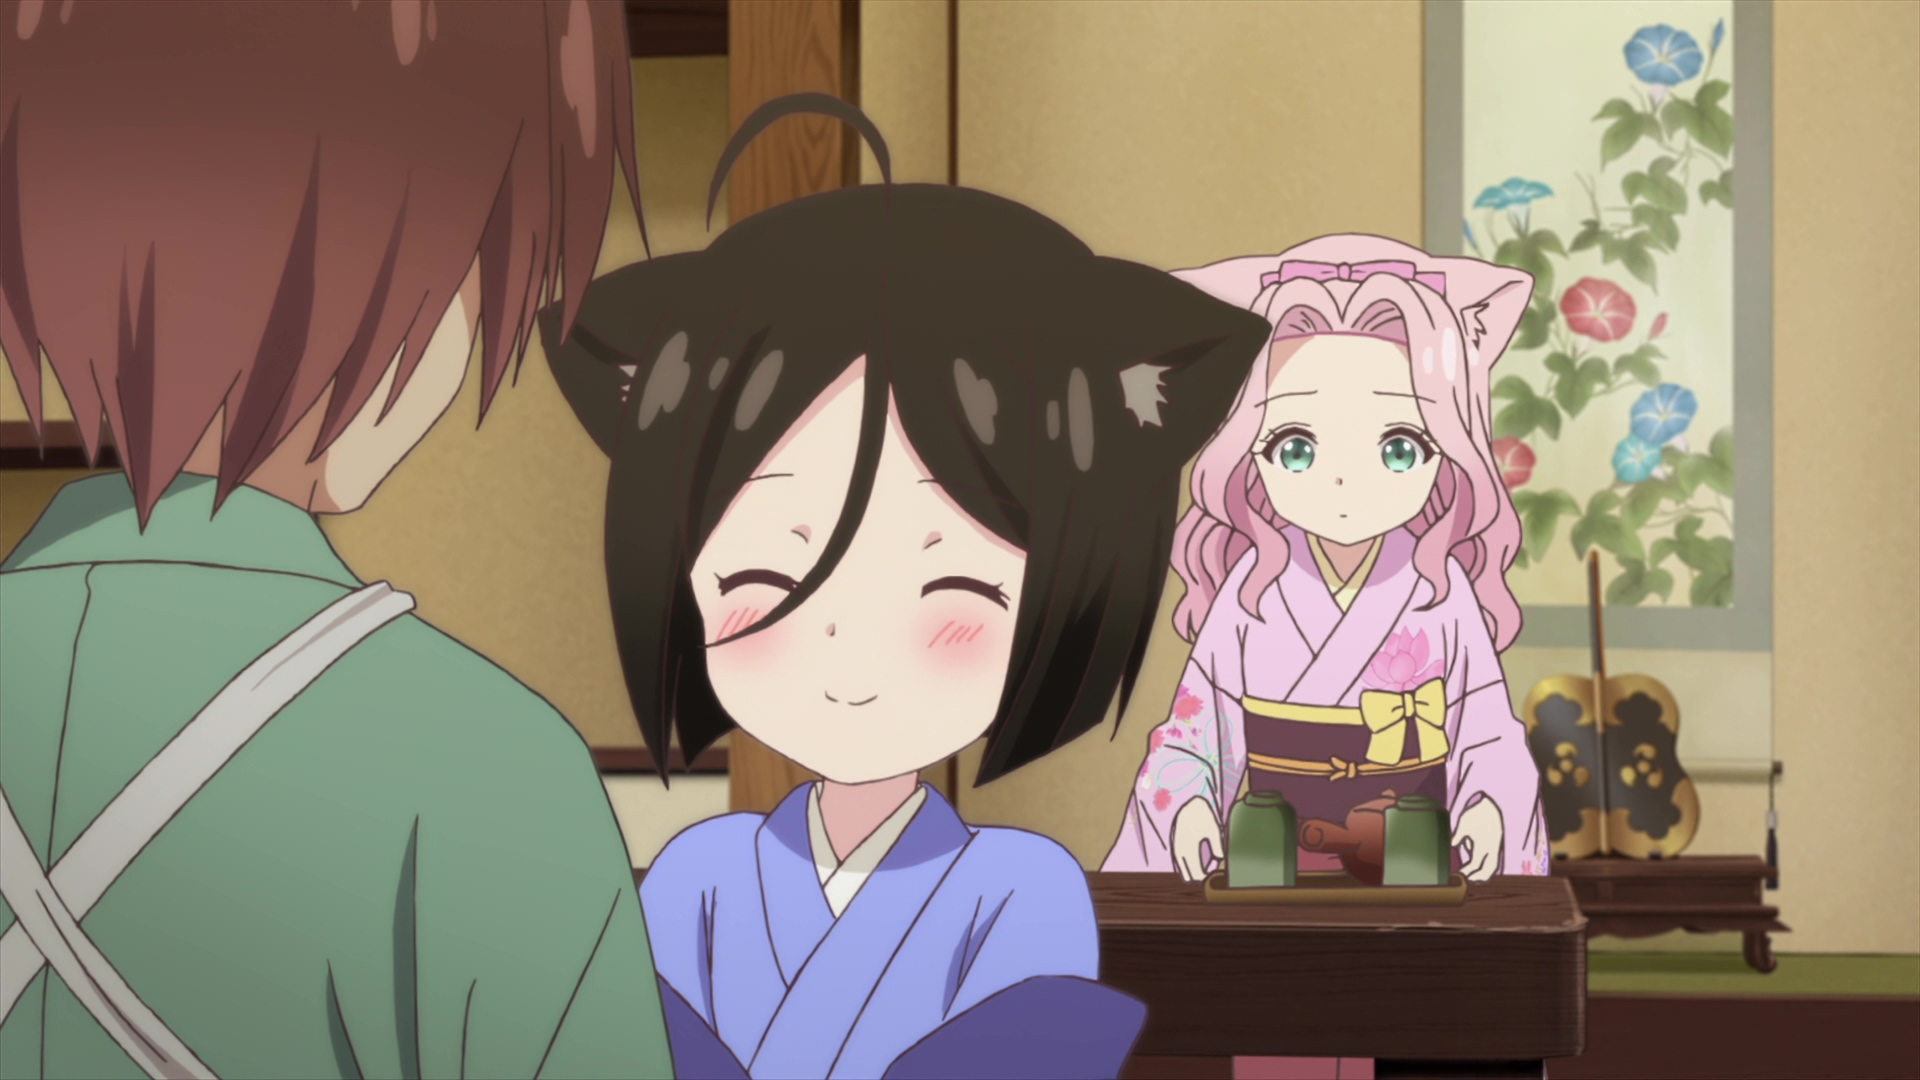其他: (534, 94, 1274, 1080), (1093, 235, 1549, 874)
枣: (1, 1, 670, 1080)
